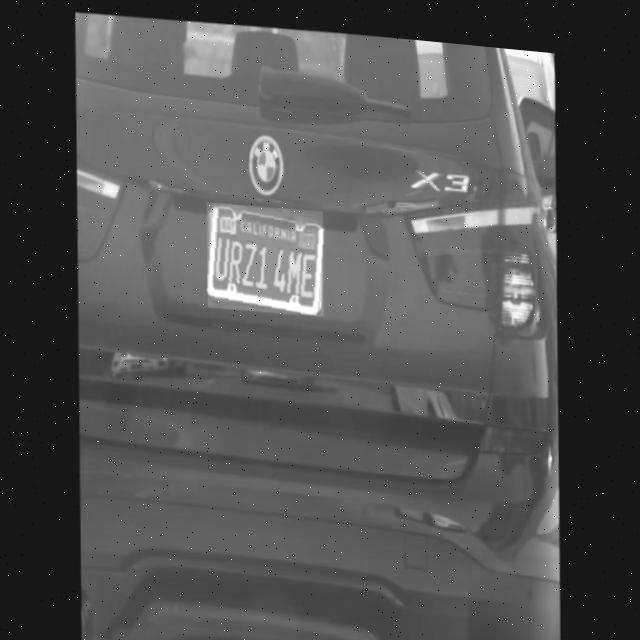LicensePlate: (206, 196, 324, 312)
